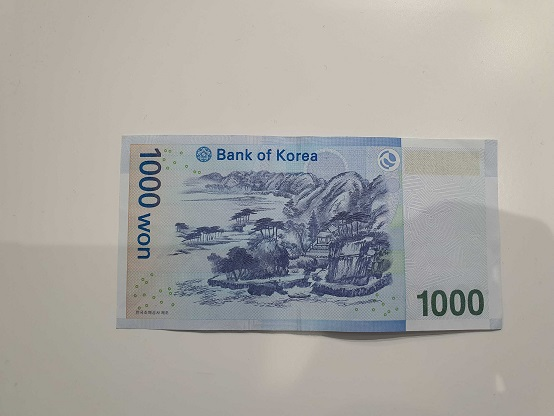1000won: (116, 133, 503, 334)
